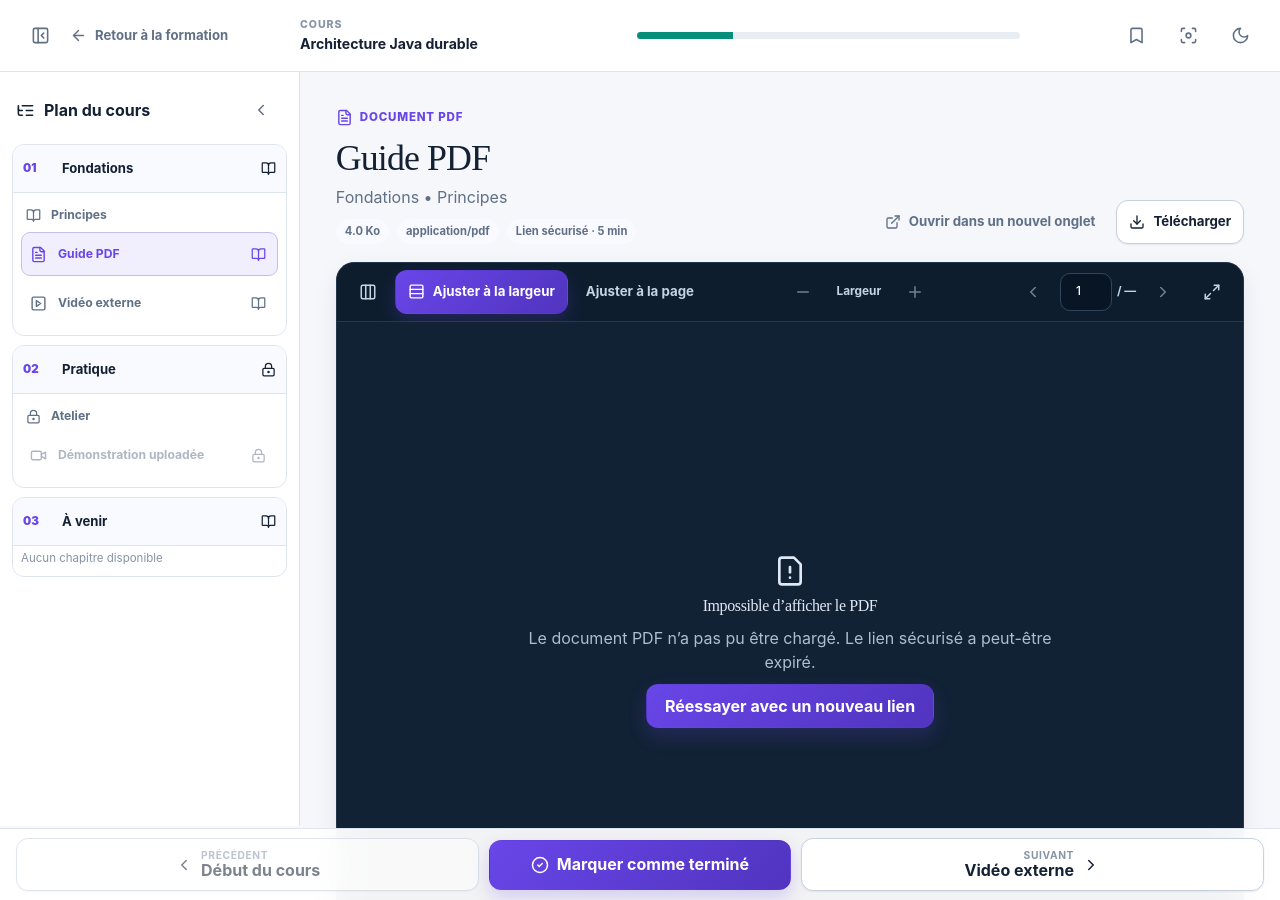
Scenario: lecteur de cours › bloque le double clic sur le signet pendant la requête
Expected: the heading "Guide PDF" is shown, 336,138 -> 490,178
Double-click the button named "Ajouter un signet" at (1136, 36), box 1114,14 -> 1158,58
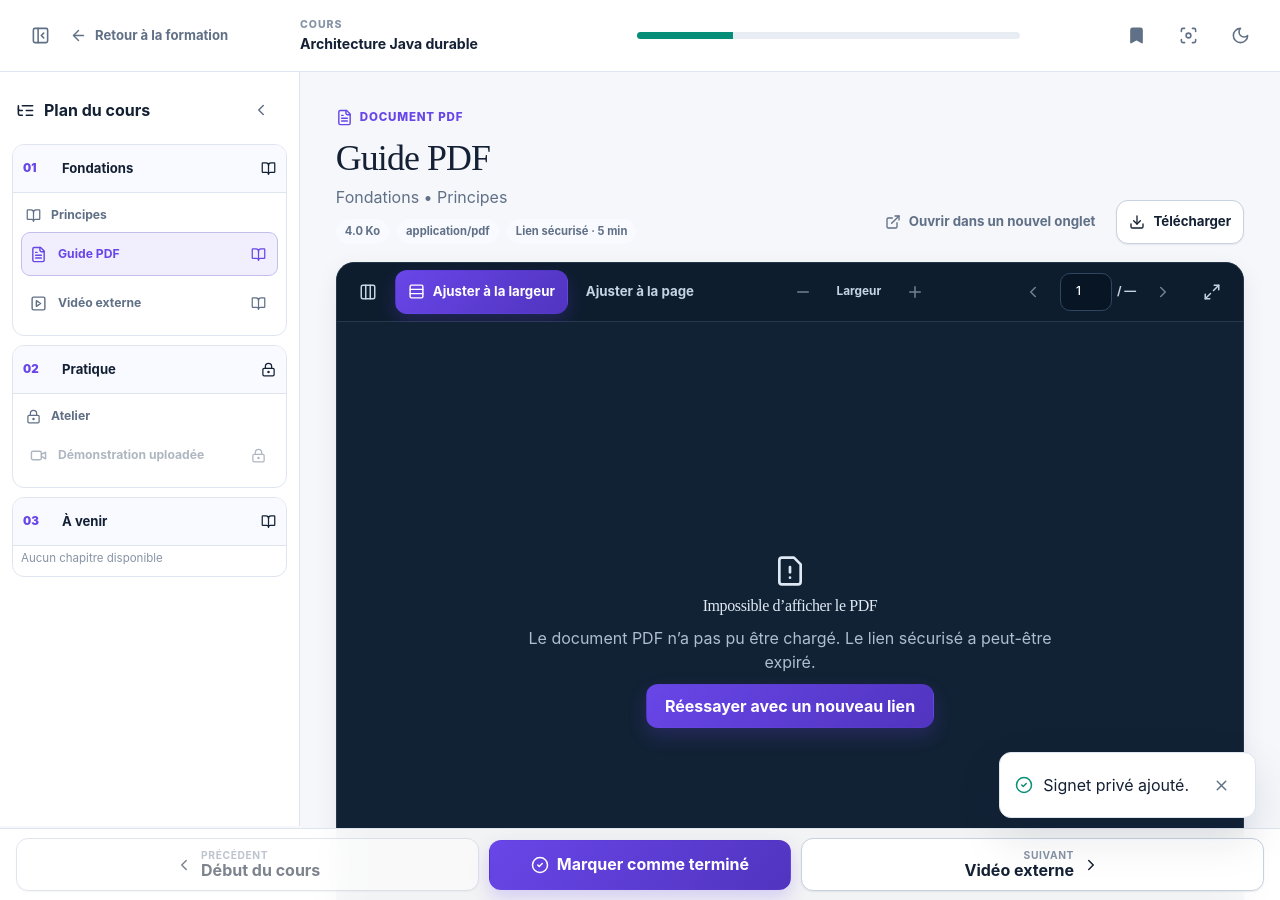
Now the button named "Retirer le signet" is shown, box 1114,14 -> 1158,58
